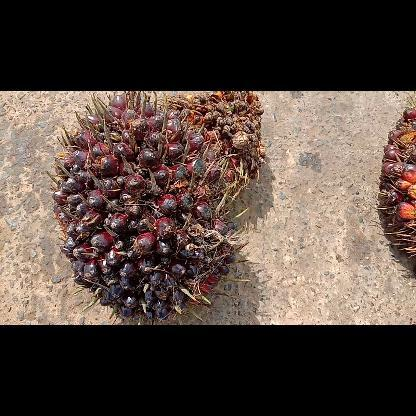Kurang masak: (47, 90, 249, 324)
TBS abnormal: (162, 90, 265, 180)
